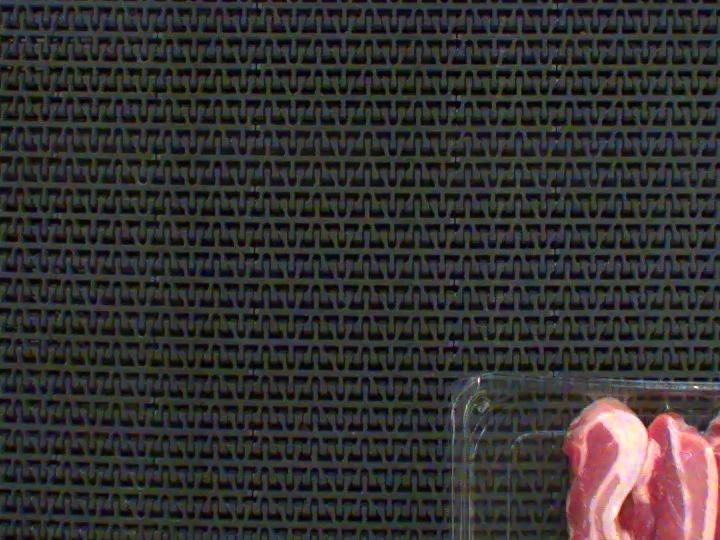packaging-error: (582, 382, 627, 407)
